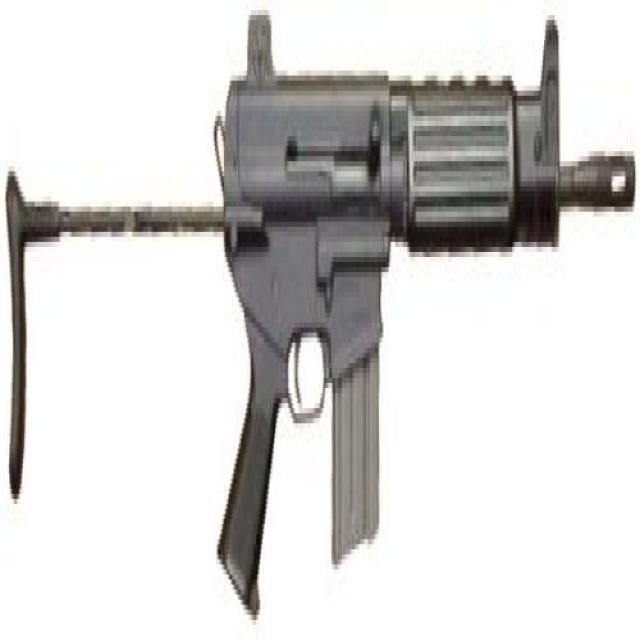rifle: (8, 1, 640, 640)
